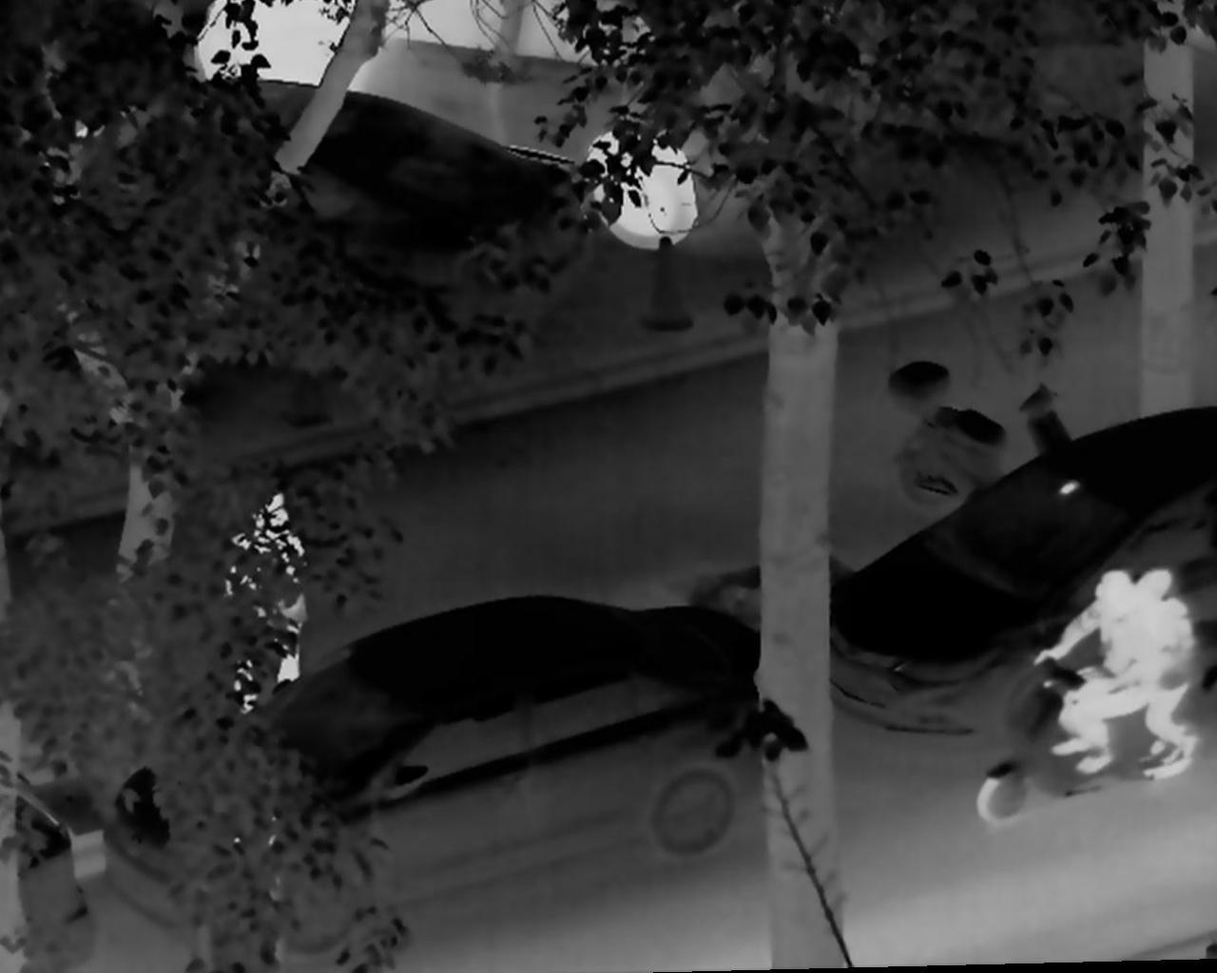person: (1034, 562, 1154, 791), (210, 486, 313, 714), (1119, 562, 1196, 792)
